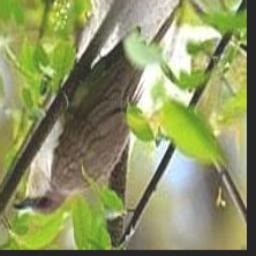Cuckoo: (13, 0, 202, 216)
